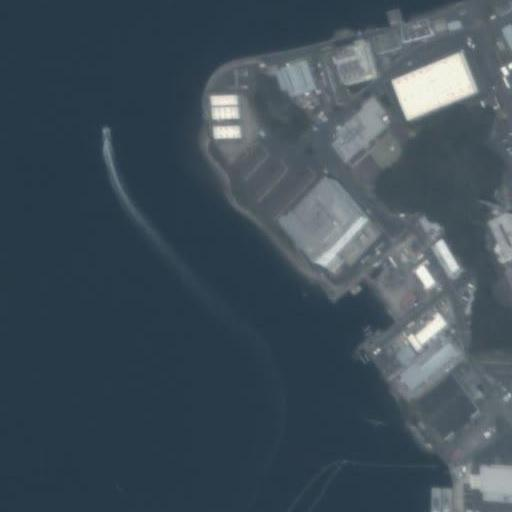person: (102, 126, 111, 141)
